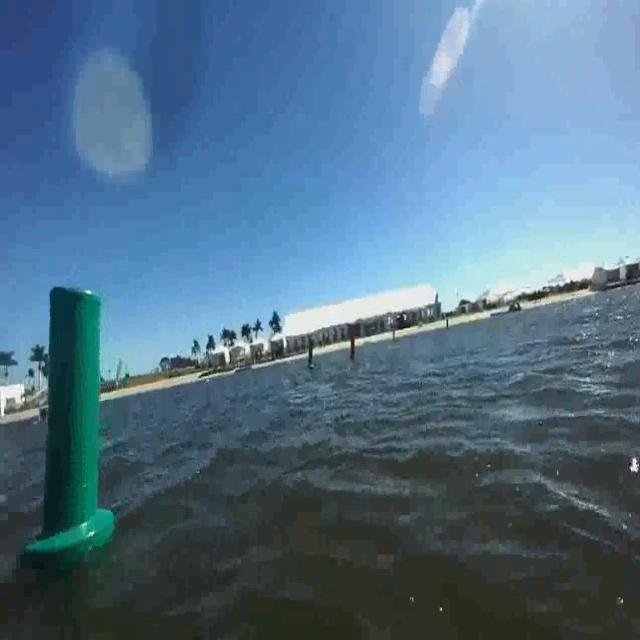green-column-buoy: (27, 286, 116, 568), (307, 337, 317, 371)
